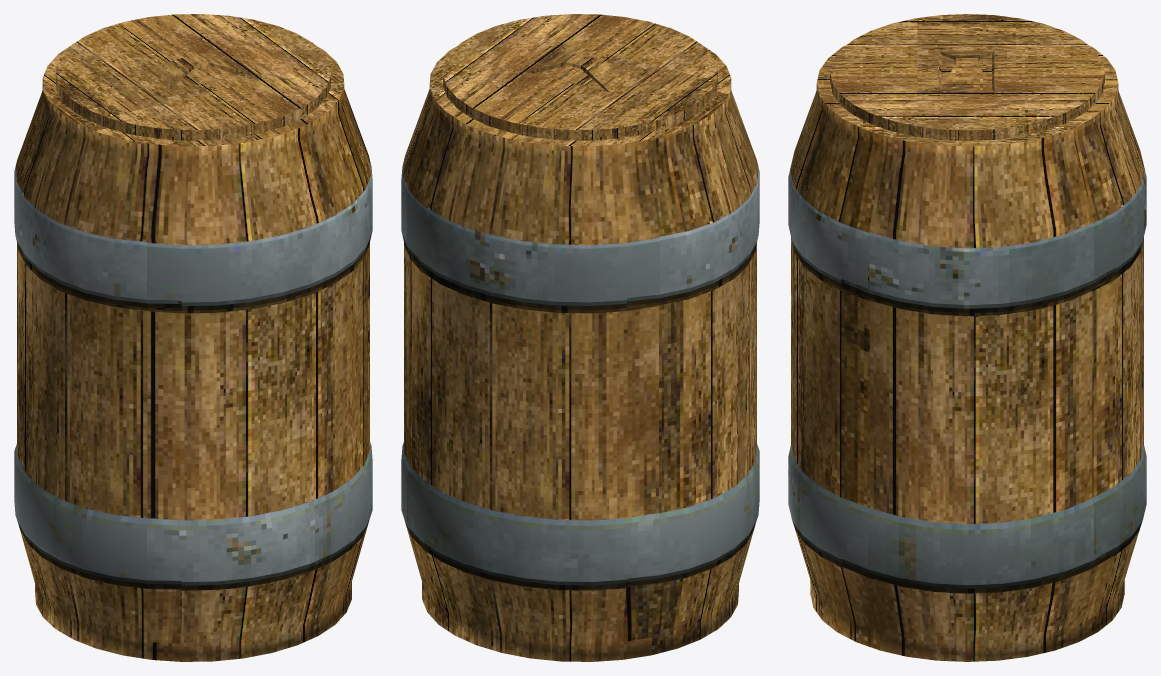
Rendered from barrels.fbx.
3 views of the same model, side by side, from view 1: azimuth 30°, elevation 25°; view 2: azimuth 150°, elevation 25°; view 3: azimuth 270°, elevation 25° (orthographic).
Parts seen in each view (by area): view 1: Barrel; view 2: Barrel; view 3: Barrel.
Part boxes in pixels (x1=…): Barrel: x1=14, y1=14, x2=372, y2=661; Barrel: x1=401, y1=14, x2=759, y2=661; Barrel: x1=788, y1=14, x2=1146, y2=661.
Bounding box in the file's own units: 118 × 194 × 118.
